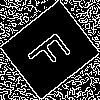F: (25, 24, 79, 76)
